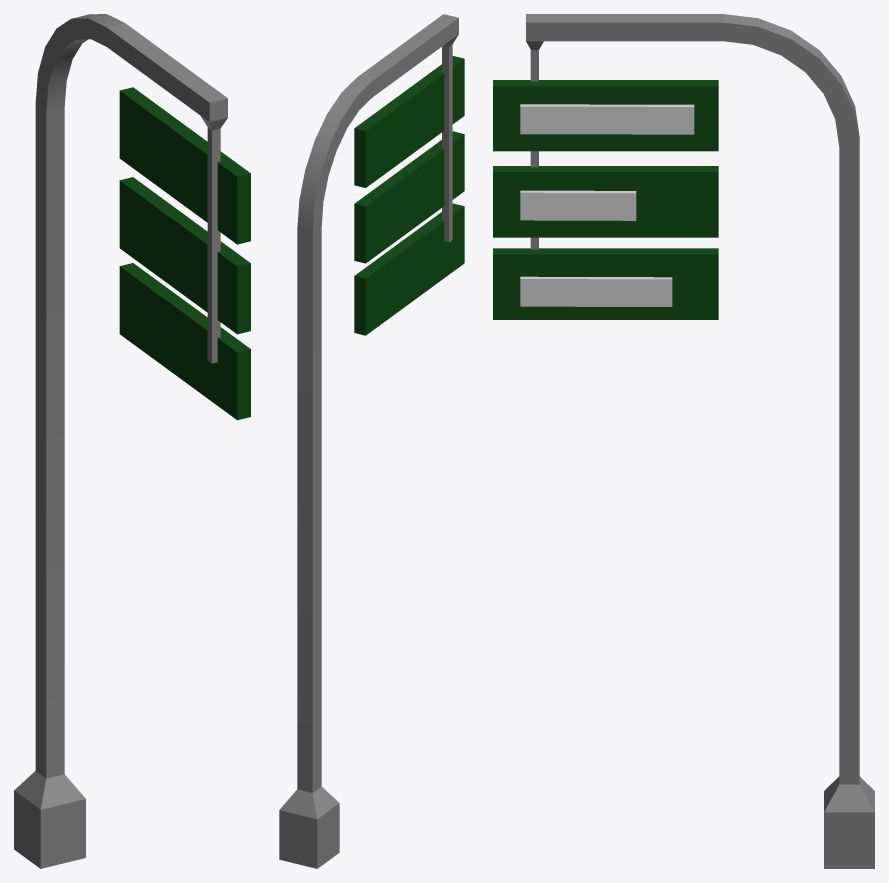
File: Signal_03.FBX
3 renders of one model, left to right at view 1: azimuth 30°, elevation 25°; view 2: azimuth 150°, elevation 25°; view 3: azimuth 270°, elevation 25°, orthographic. The views are drawn at different scales.
Visible parts, largest first — view 1: Signal_03; view 2: Signal_03; view 3: Signal_03.
Part boxes in pixels (x1,y1,x2,y2): Signal_03: [14, 14, 250, 868]; Signal_03: [279, 14, 464, 868]; Signal_03: [493, 14, 874, 868].
Bounding box in the file's own units: 0.6729 × 12.45 × 5.13.
